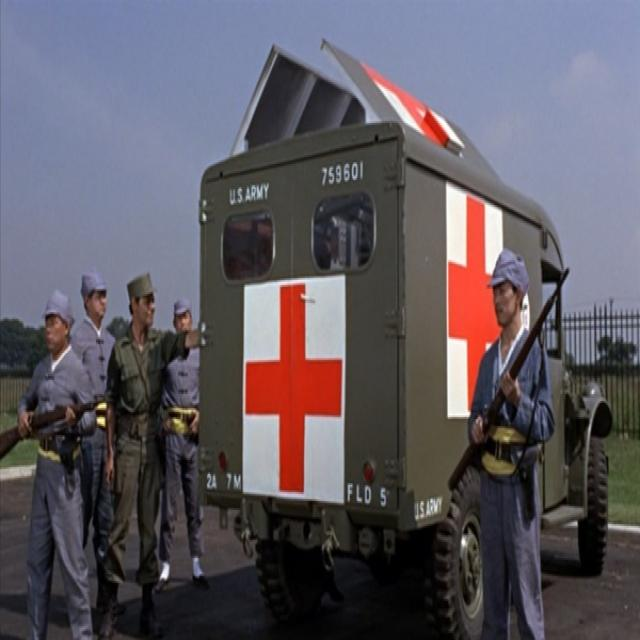rifle: (449, 264, 570, 495), (1, 393, 112, 467)
